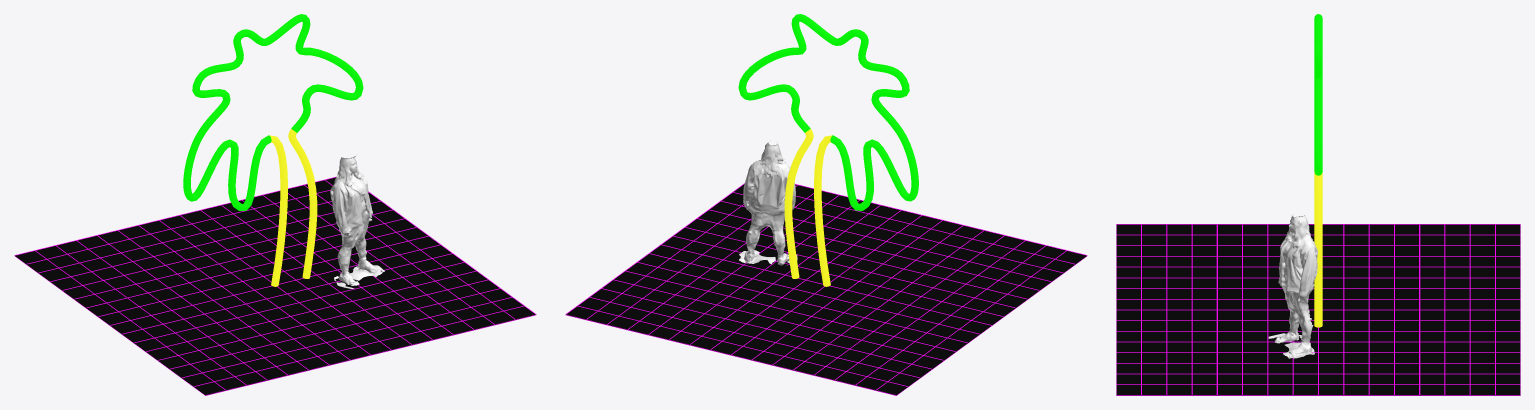
Rendered from v x retrowave-neon-palm.glb.
3 renders of one model, left to right at view 1: azimuth 30°, elevation 25°; view 2: azimuth 150°, elevation 25°; view 3: azimuth 270°, elevation 25°, orthographic. The views are drawn at different scales.
Parts seen in each view (by area): view 1: Floor, Leaves, defaultobject, Trunk R, Trunk L; view 2: Floor, Leaves, defaultobject, Trunk R, Trunk L; view 3: Floor, defaultobject, Leaves, Trunk R.
Part boxes in pixels (x1,y1,x2,y2): Floor: (14,177,536,395); Leaves: (183,14,363,210); defaultobject: (330,156,384,288); Trunk R: (288,129,317,278); Trunk L: (269,135,287,286); Floor: (565,183,1087,395); Leaves: (738,14,918,210); defaultobject: (739,142,797,265); Trunk R: (784,129,813,278); Trunk L: (814,135,831,286); Floor: (1116,224,1520,395); defaultobject: (1268,214,1317,358); Leaves: (1314,14,1322,175); Trunk R: (1314,172,1322,327).
Size of the model in its own units: 20 by 15.49 by 20.
